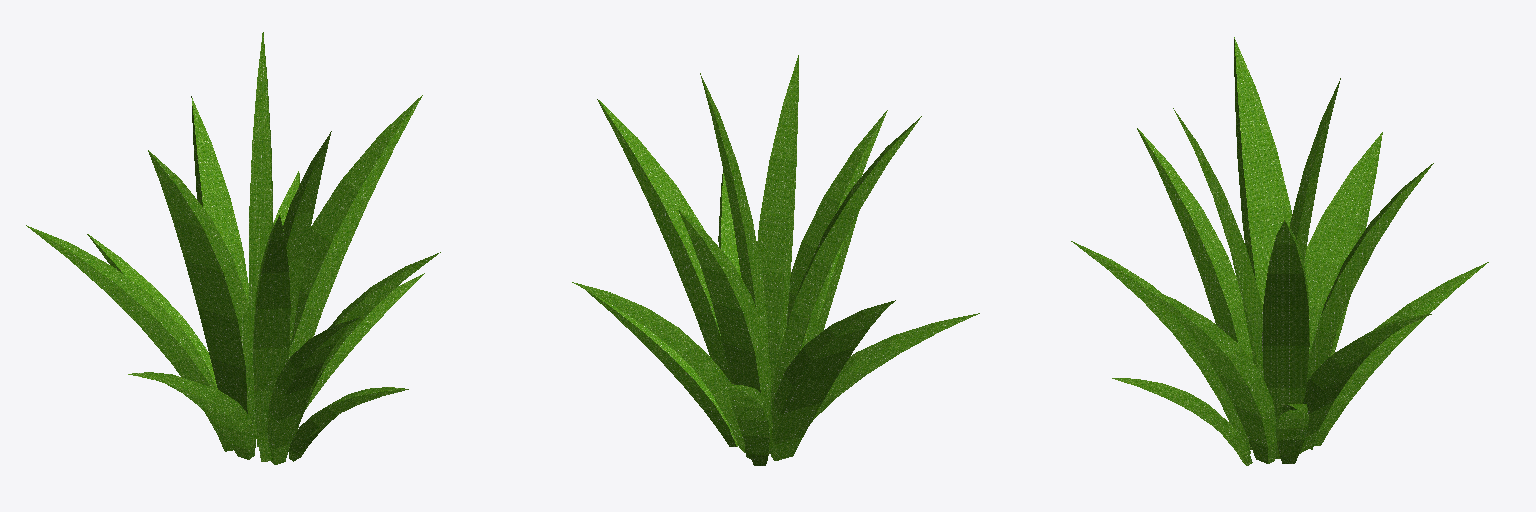
The picture shows the model from 3 angles: view 1: azimuth 30°, elevation 25°; view 2: azimuth 150°, elevation 25°; view 3: azimuth 270°, elevation 25°; orthographic projection.
Parts seen in each view (by area): view 1: aloeVera:AloeVera; view 2: aloeVera:AloeVera; view 3: aloeVera:AloeVera.
Boxes of the visible parts, x1,y1,x2,y2 form: aloeVera:AloeVera: [26, 32, 440, 464]; aloeVera:AloeVera: [572, 55, 979, 465]; aloeVera:AloeVera: [1071, 37, 1488, 465].
Bounding box in the file's own units: 1.11 × 1.16 × 1.12.
1 materials, 1 textured.